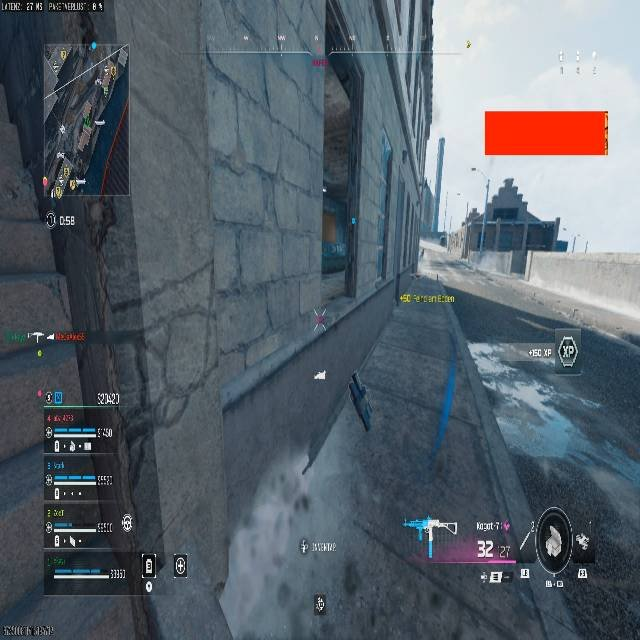head: (500, 176, 518, 195)
player: (488, 177, 539, 237)
